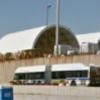buses: (13, 64, 100, 86)
